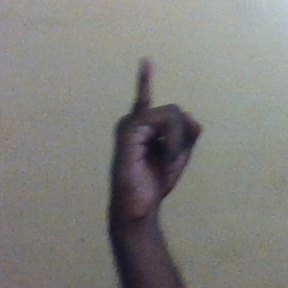I: (102, 54, 206, 216)
